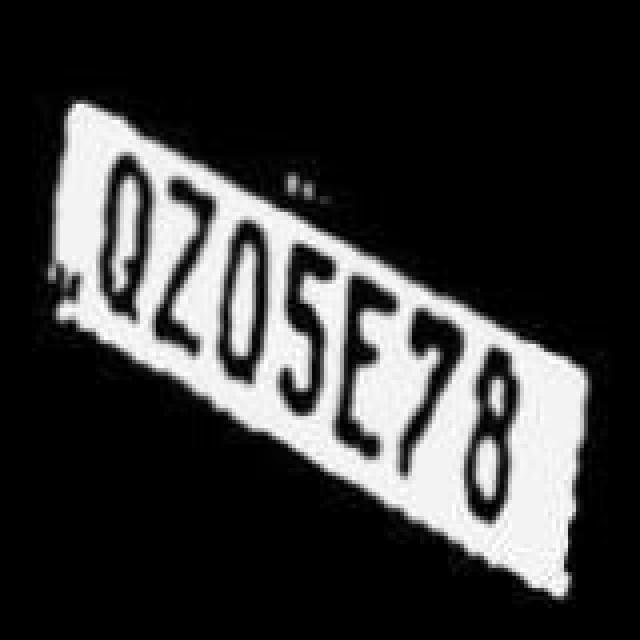5: (276, 236, 336, 428)
7: (390, 288, 466, 492)
8: (460, 340, 532, 536)
E: (336, 262, 404, 474)
O: (212, 216, 272, 400)
Q: (94, 150, 154, 334)
Z: (146, 174, 218, 354)
